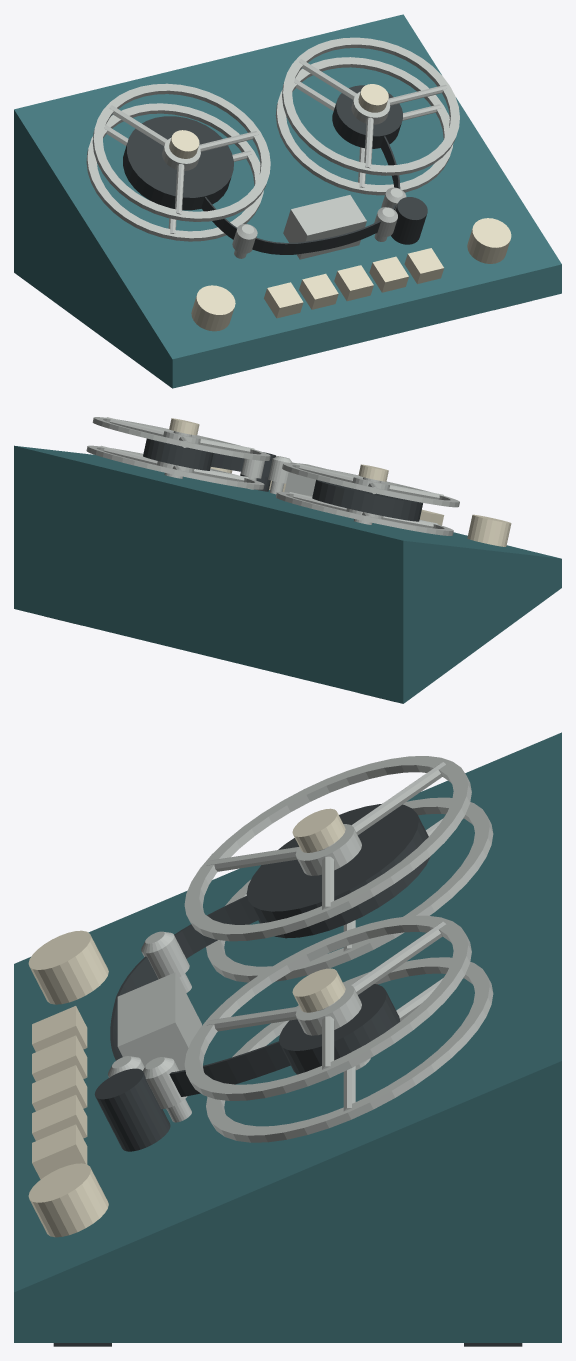
3 views of the same model, one above another, from view 1: azimuth 30°, elevation 25°; view 2: azimuth 150°, elevation 25°; view 3: azimuth 270°, elevation 25° (orthographic). The views are drawn at different scales.
Visible parts, largest first — view 1: WholeInclinedMachineCase, WholeStoredTapeMass0, WholeOpenReelRim1_1, WholeOpenReelRim0_1, WholeOpenReelRim1_0, WholeOpenReelRim0_0, WholeHeadCover, WholeContinuousExposedTape, WholeStoredTapeMass1, WholeRotaryControl0, WholeRotaryControl1, WholePinchRoller (+15 smaller); view 2: WholeInclinedMachineCase, WholeStoredTapeMass0, WholeOpenReelRim0_1, WholeOpenReelRim1_1, WholeStoredTapeMass1, WholeOpenReelRim1_0, WholeOpenReelRim0_0, WholeRotaryControl0, WholeHeadCover, WholeSteppedGuidePost2, WholeContinuousExposedTape, WholeSteppedGuidePost1 (+3 smaller); view 3: WholeInclinedMachineCase, WholeOpenReelRim1_1, WholeOpenReelRim0_1, WholeStoredTapeMass0, WholeOpenReelRim1_0, WholeOpenReelRim0_0, WholeHeadCover, WholeContinuousExposedTape, WholeStoredTapeMass1, WholeRotaryControl0, WholeRotaryControl1, WholePinchRoller (+15 smaller).
Part boxes in pixels (<box>): WholeInclinedMachineCase: <box>14,14,561,388</box>; WholeStoredTapeMass0: <box>123,116,233,210</box>; WholeOpenReelRim1_1: <box>282,37,459,175</box>; WholeOpenReelRim0_1: <box>92,83,270,221</box>; WholeOpenReelRim1_0: <box>275,57,453,195</box>; WholeOpenReelRim0_0: <box>86,103,263,241</box>; WholeHeadCover: <box>283,195,366,259</box>; WholeContinuousExposedTape: <box>201,136,400,254</box>; WholeStoredTapeMass1: <box>332,85,402,148</box>; WholeRotaryControl0: <box>191,285,235,331</box>; WholeRotaryControl1: <box>467,218,511,263</box>; WholePinchRoller: <box>391,197,427,244</box>; WholeInclinedMachineCase: <box>14,445,561,703</box>; WholeStoredTapeMass0: <box>312,479,422,521</box>; WholeOpenReelRim0_1: <box>282,463,459,507</box>; WholeOpenReelRim1_1: <box>92,417,270,460</box>; WholeStoredTapeMass1: <box>143,438,213,470</box>; WholeOpenReelRim1_0: <box>86,445,264,489</box>; WholeOpenReelRim0_0: <box>276,492,453,535</box>; WholeRotaryControl0: <box>467,514,511,546</box>; WholeHeadCover: <box>284,462,325,496</box>; WholeSteppedGuidePost2: <box>268,456,292,494</box>; WholeContinuousExposedTape: <box>211,453,271,476</box>; WholeSteppedGuidePost1: <box>240,458,264,489</box>; WholeInclinedMachineCase: <box>14,732,561,1342</box>; WholeOpenReelRim1_1: <box>184,915,471,1100</box>; WholeOpenReelRim0_1: <box>184,756,471,941</box>; WholeStoredTapeMass0: <box>246,804,430,938</box>; WholeOpenReelRim1_0: <box>206,957,493,1142</box>; WholeOpenReelRim0_0: <box>206,797,493,982</box>; WholeHeadCover: <box>117,972,201,1070</box>; WholeContinuousExposedTape: <box>110,896,290,1096</box>; WholeStoredTapeMass1: <box>279,984,400,1074</box>; WholeRotaryControl0: <box>28,930,108,1004</box>; WholeRotaryControl1: <box>28,1163,108,1237</box>; WholePinchRoller: <box>94,1068,170,1151</box>.
Size of the model in its own units: 0.72 by 0.3407 by 0.5075.
